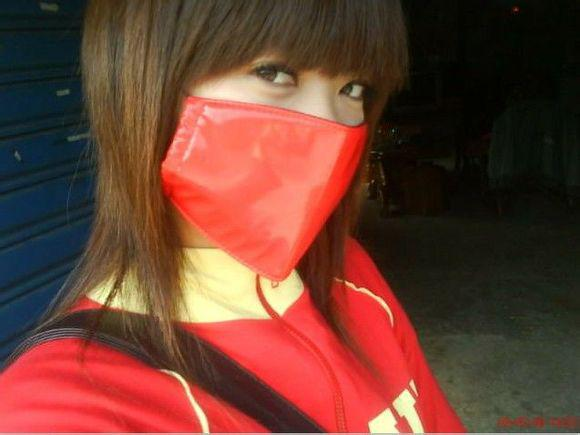OK: (148, 39, 377, 268)
